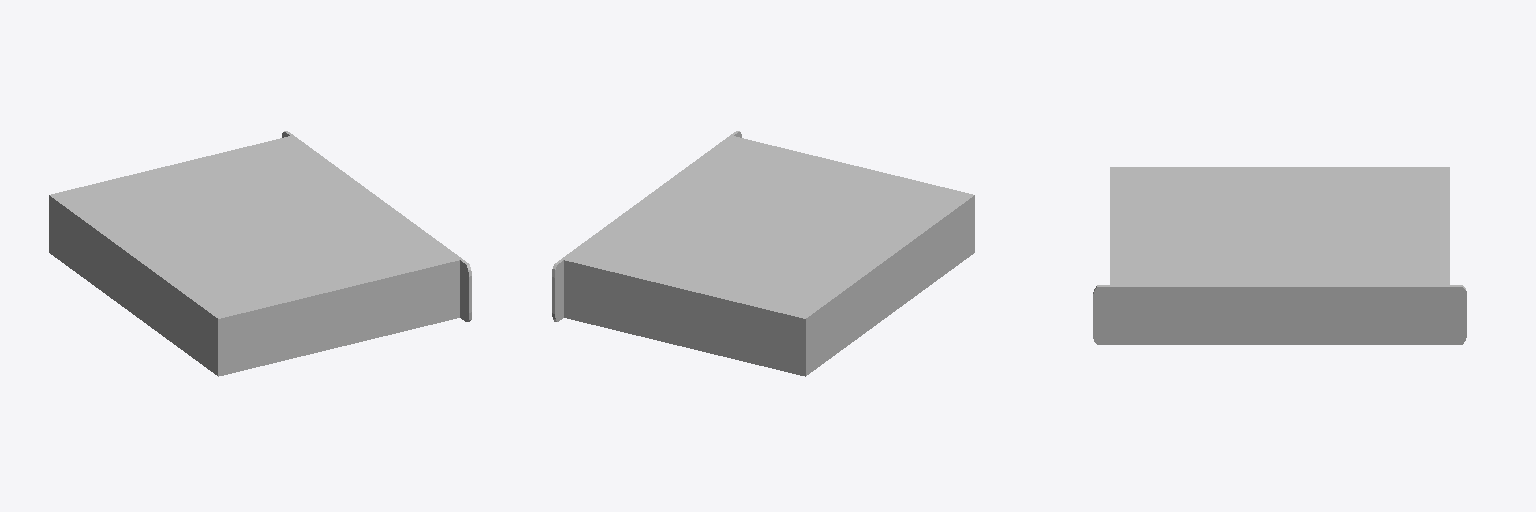
Rendered from (05) PowerEdgeR530.obj.
The picture shows the model from 3 angles: view 1: azimuth 30°, elevation 25°; view 2: azimuth 150°, elevation 25°; view 3: azimuth 270°, elevation 25°; orthographic projection.
Visible parts, largest first — view 1: unit_Cube.001; view 2: unit_Cube.001; view 3: unit_Cube.001.
Part boxes in pixels (x1,y1,x2,y2): unit_Cube.001: (49,131,471,376); unit_Cube.001: (552,131,974,376); unit_Cube.001: (1093,167,1466,344).
Bounding box in the file's own units: 0.4 × 0.09 × 0.53.